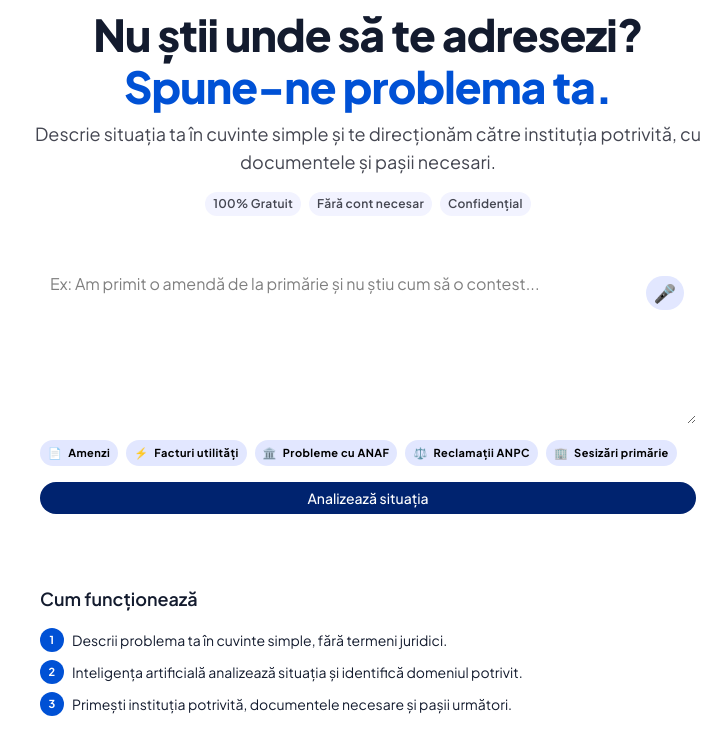
Scenario: HomePage › shows a rate-limit-specific message when the server returns 429
Type "Am o problemă cu ANAF" into the text box named "Descrierea problemei" at {"x": 368, "y": 344}, box [40,264,696,424]
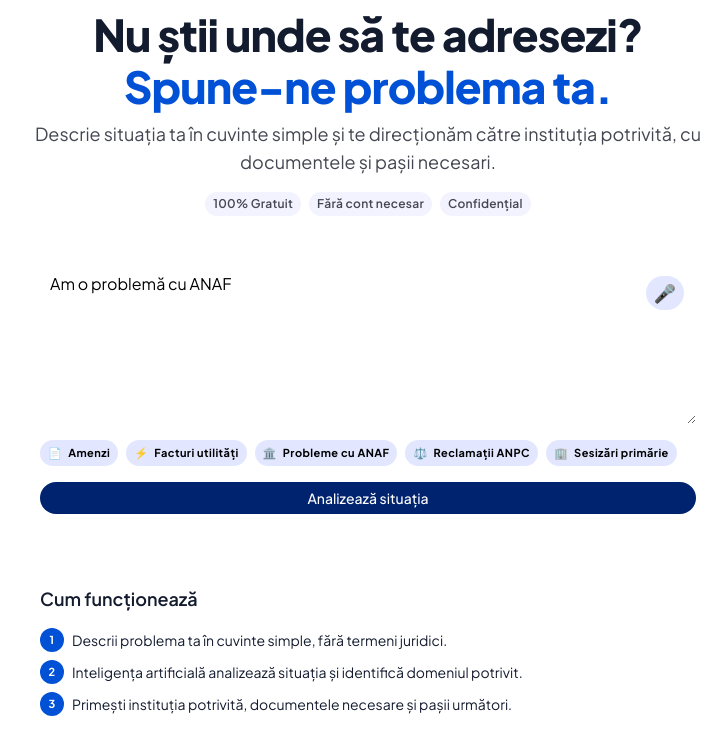
Click the button "Analizează situația" at {"x": 368, "y": 498}, box [40,482,696,514]
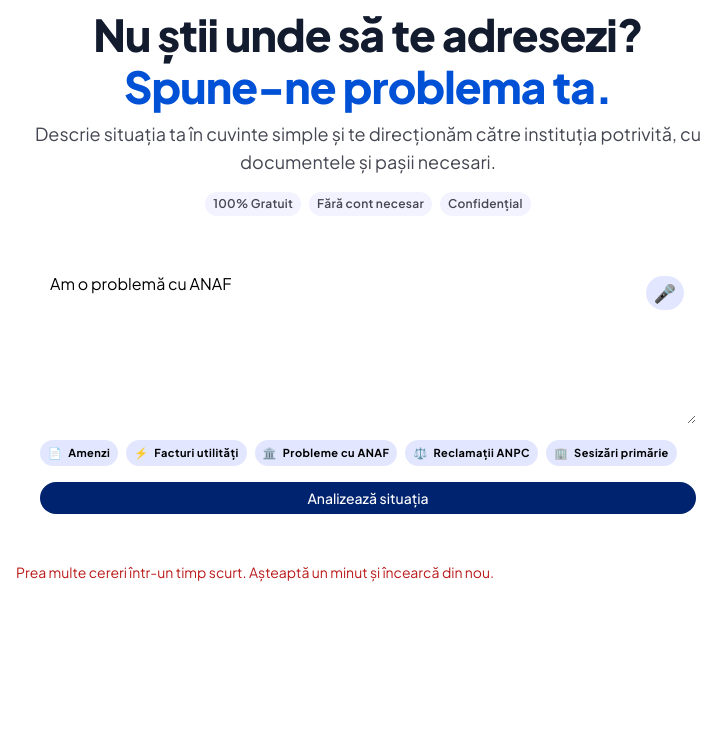
Now the message shows "Prea multe cereri", box [16,563,494,581]
